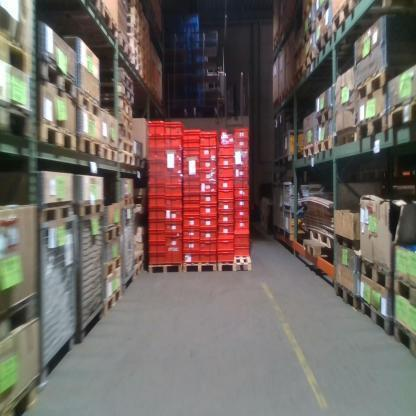pallet: (38, 54, 79, 106), (356, 298, 393, 344), (354, 256, 394, 295), (38, 116, 79, 153), (356, 108, 389, 142), (36, 199, 75, 225), (333, 280, 360, 312), (147, 263, 184, 277), (184, 262, 217, 276)
